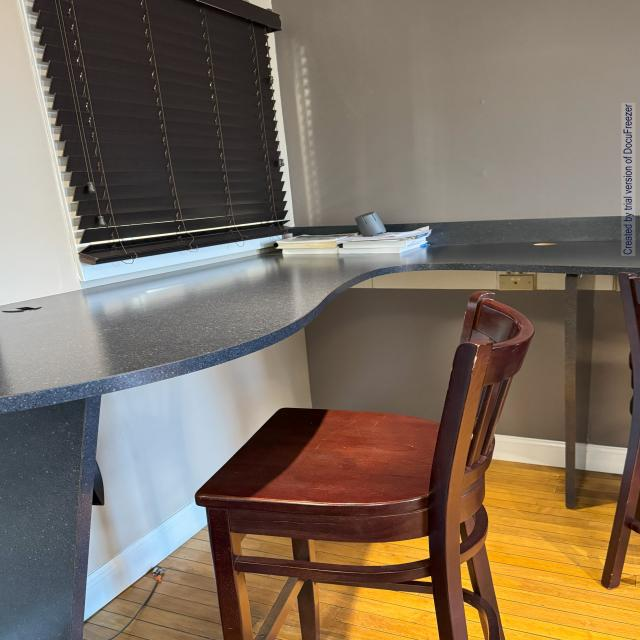chair: (209, 293, 552, 637)
